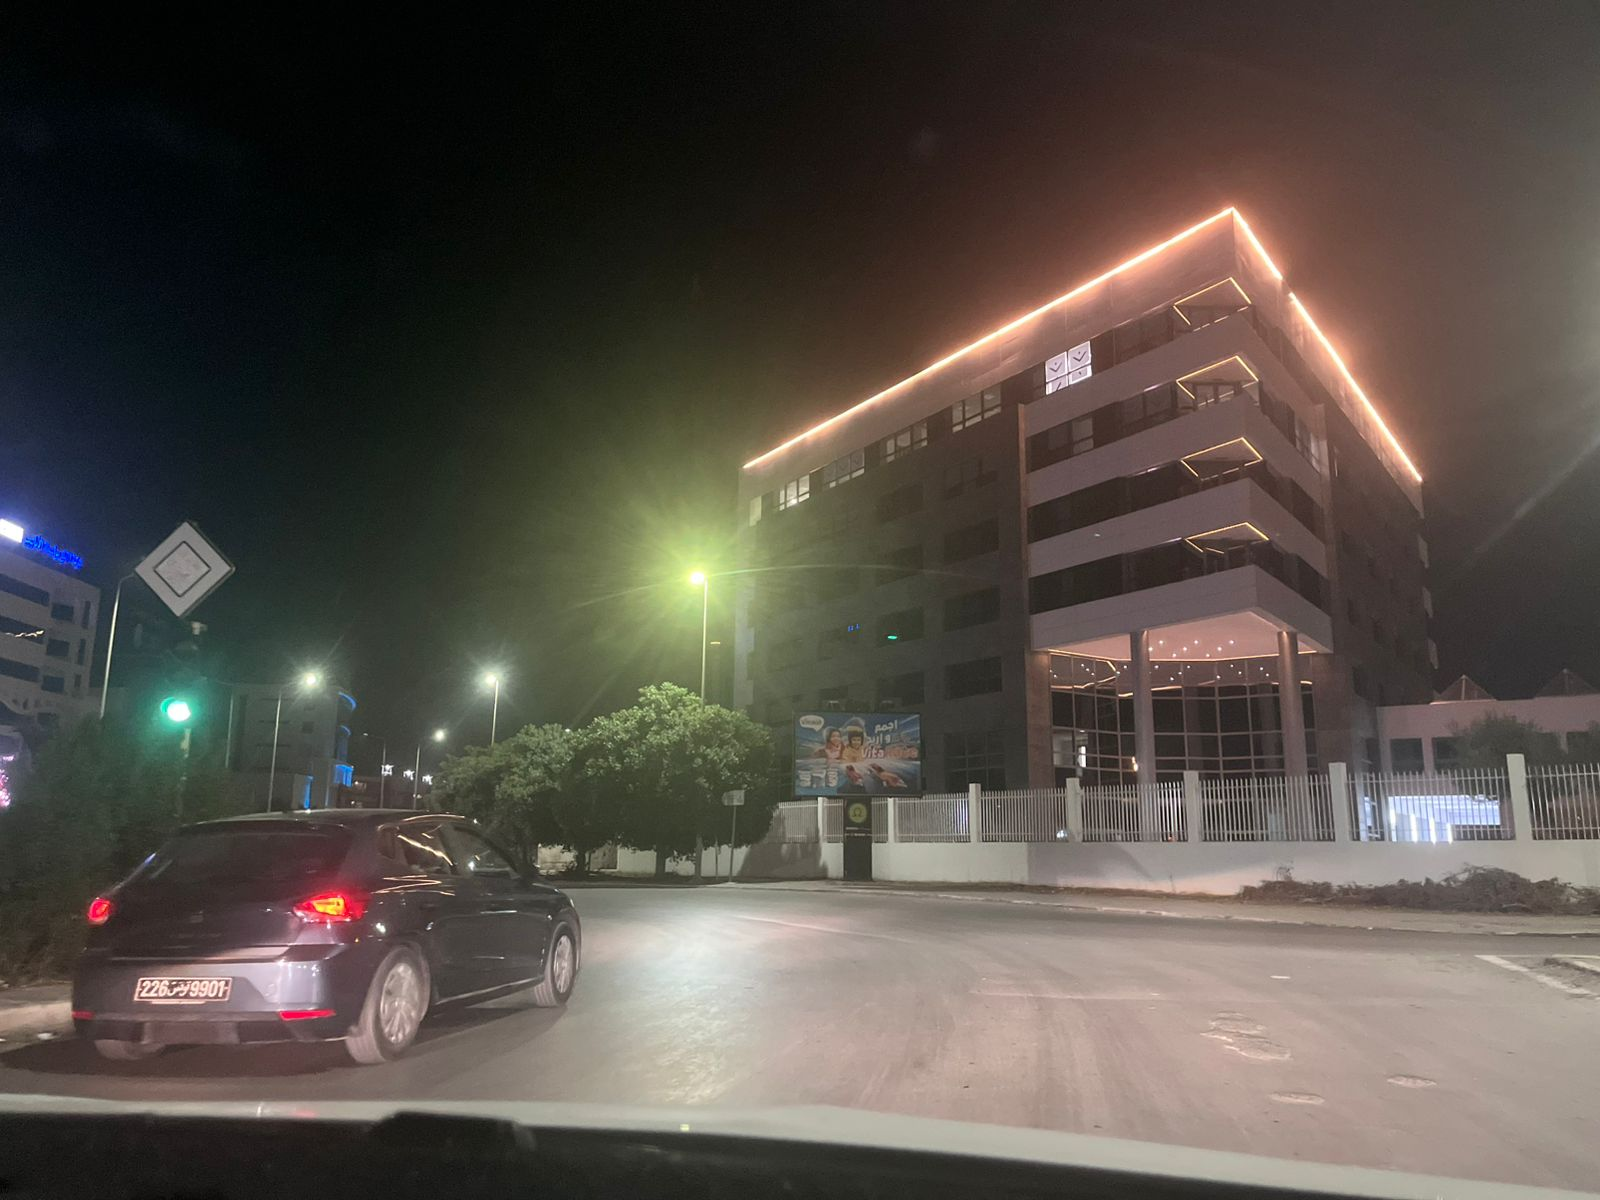GreenLight: (154, 625, 205, 740)
